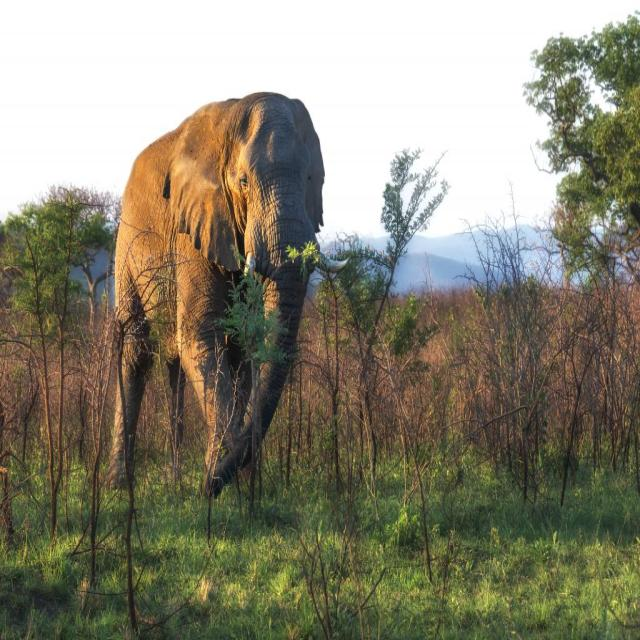elephant: (94, 86, 330, 538)
